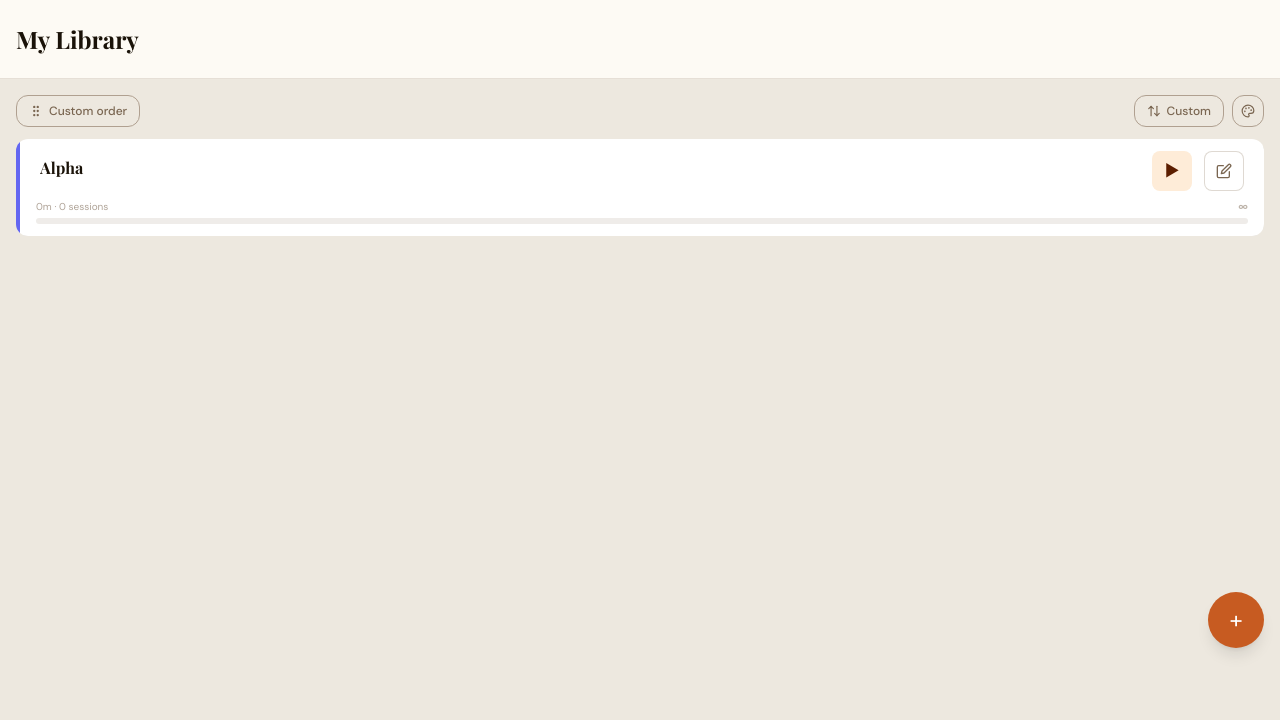
it: ProjectLibrary start session sheet › opens on project card tap
Note: Click the play button to open Start Session sheet
Click the button named "Start session": (1172, 171) [1152, 151, 1192, 191]
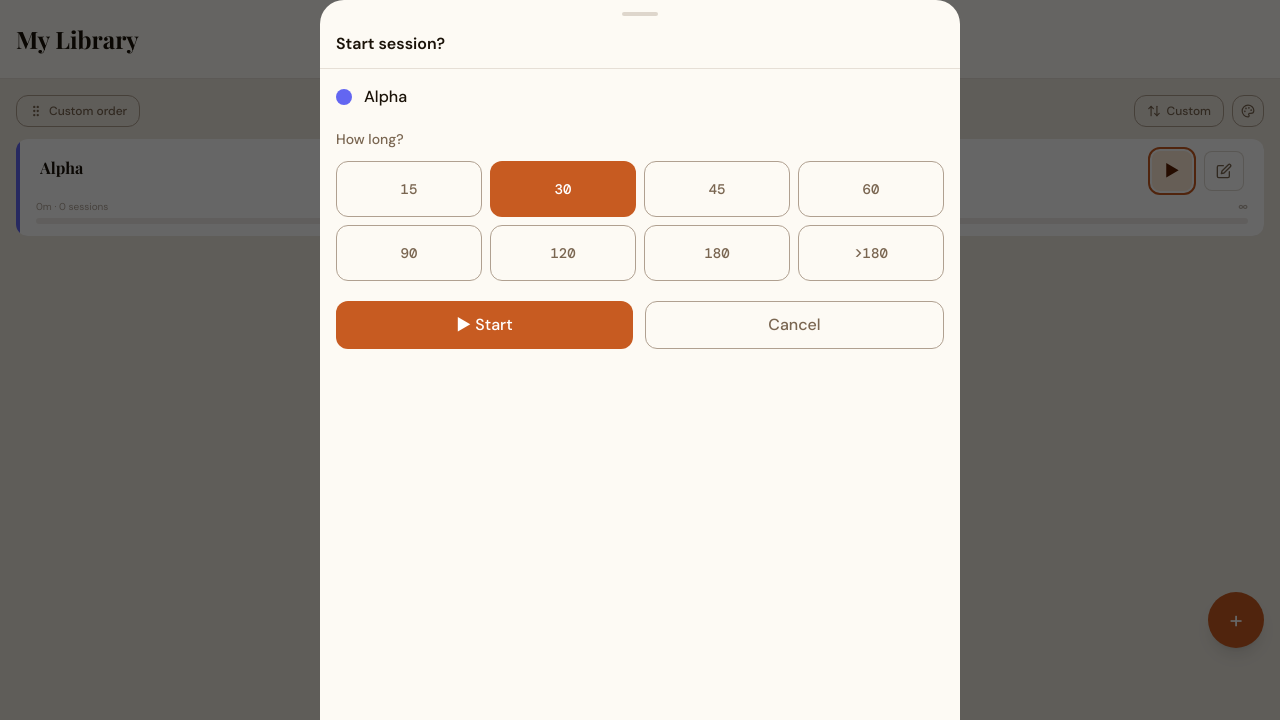
Now the heading "Start session?" is shown, box [336, 33, 445, 54]
